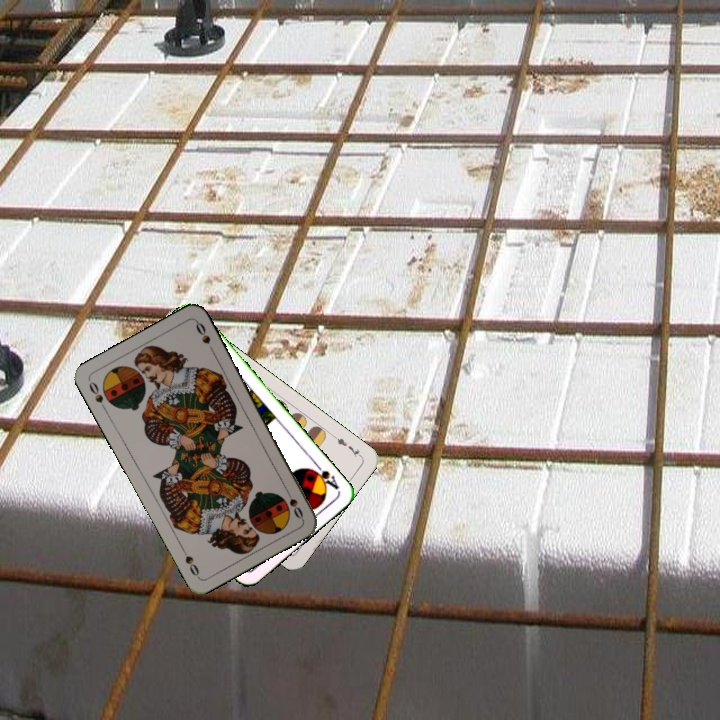E7: (329, 431, 365, 460)
SA: (306, 459, 342, 492)
SO: (281, 484, 306, 522), (85, 377, 110, 414)
